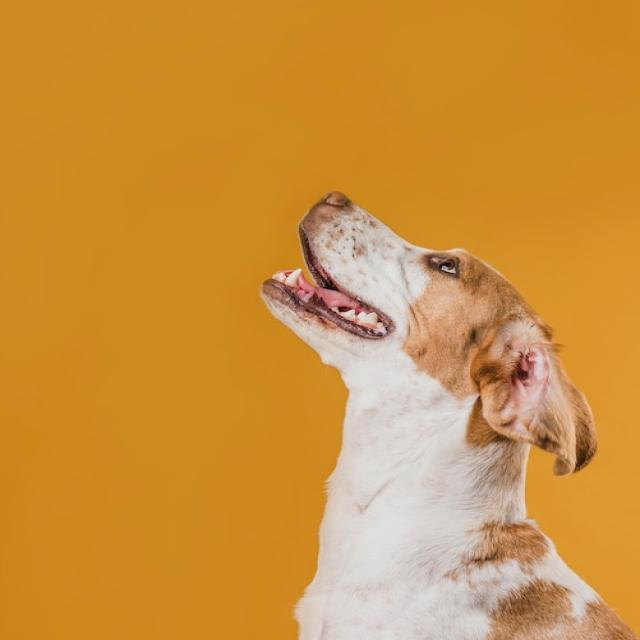Dog: (259, 191, 640, 640)
